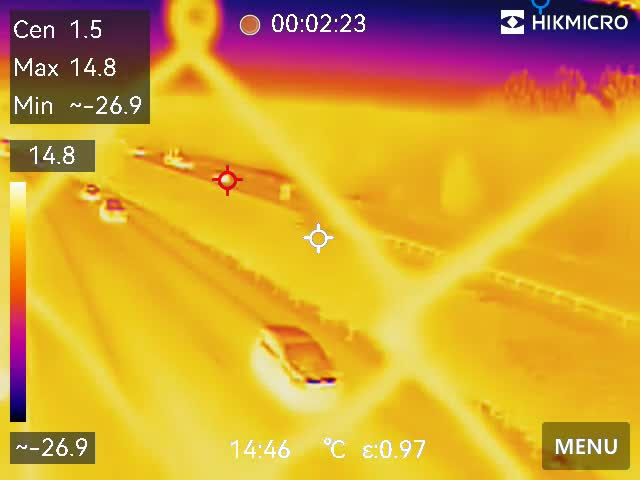heavyTruck: (158, 148, 194, 171)
largeCar: (243, 311, 346, 400)
